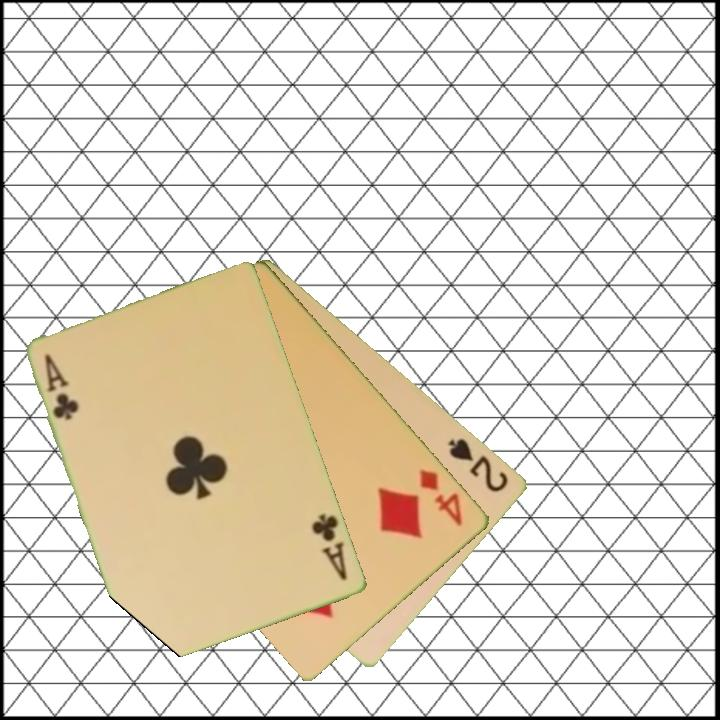2s: (444, 434, 512, 495)
4d: (416, 465, 466, 530)
Ac: (309, 510, 351, 583), (41, 350, 82, 423)
